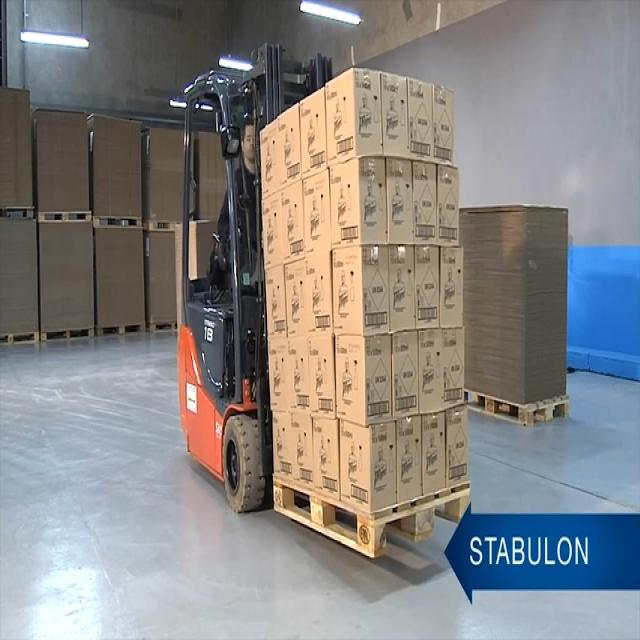Chariot elevateur: (163, 40, 350, 533)
Palette: (268, 483, 474, 565), (465, 384, 572, 433), (34, 208, 94, 232), (42, 321, 94, 344), (0, 193, 34, 227), (94, 320, 149, 341), (93, 213, 147, 231), (0, 326, 43, 346), (145, 211, 175, 237), (146, 314, 178, 338)
